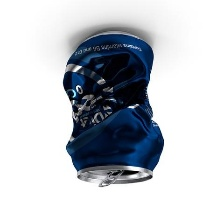can: (55, 27, 167, 188)
